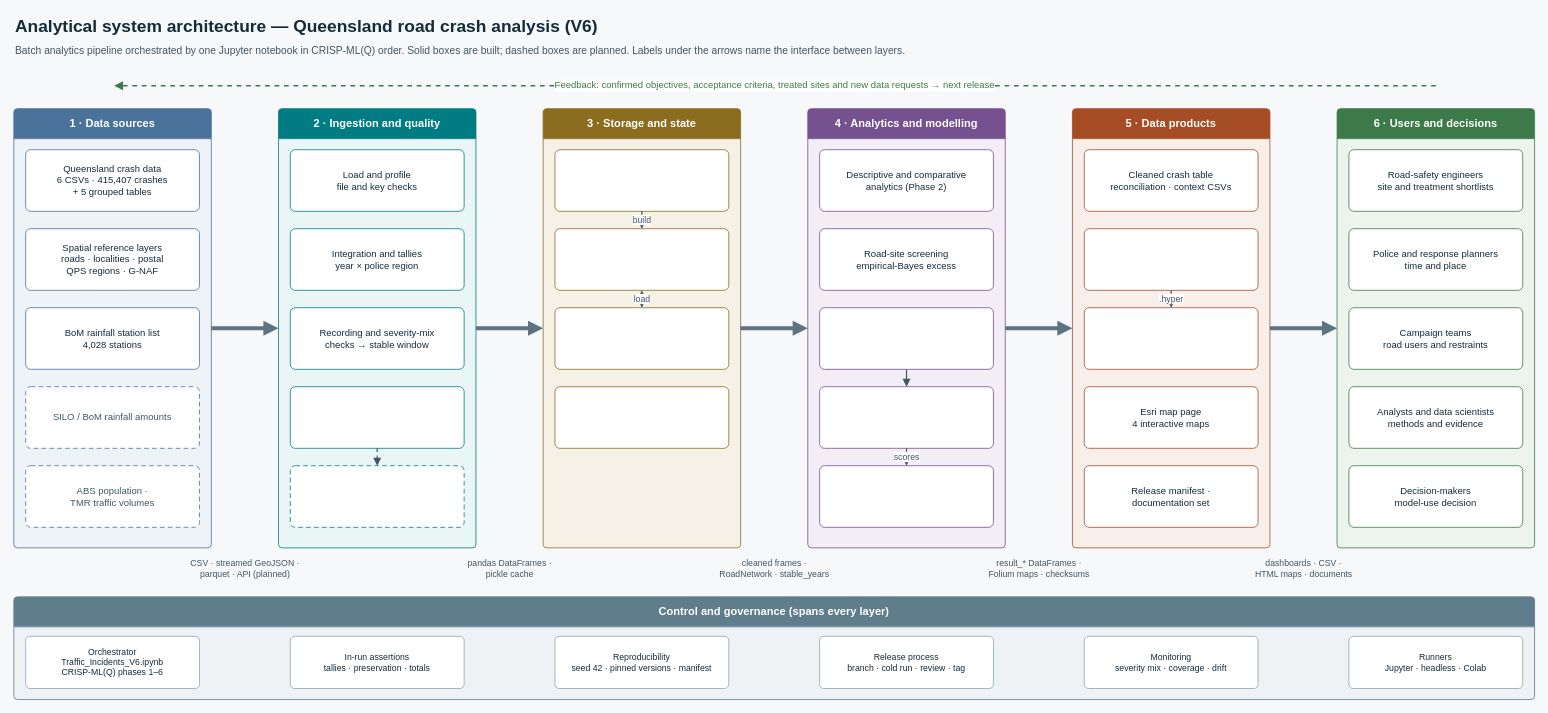
Some shapes in this 1548 by 713 pixel diagram are drawn without their labels. The shapes that lost their labels are listed below. From the top down, each one's centre as x and y in pixels, then its label:
At (641,180): "Raw files Git + Git LFS".
At (641,259): "Content-keyed cache .cache/ · recovery snapshot · road network".
At (1170,259): "Tableau data V6 35 tables".
At (641,338): "In-memory frames raw · cleaned · regional_sources".
At (906,338): "Severity models and adjusted odds (Phase 3)".
At (1170,338): "Tableau workbook build_tableau_workbook.py".
At (377,417): "Location recovery traffic_location_recovery.py".
At (641,417): "Road-site network traffic_road_sites.py 513k links · 251k junctions".
At (906,417): "Association rules Apriori".
At (377,496): "Rainfall join traffic_weather.py".
At (906,496): "Evaluation and reliability R1–R7 (Phase 4)".
